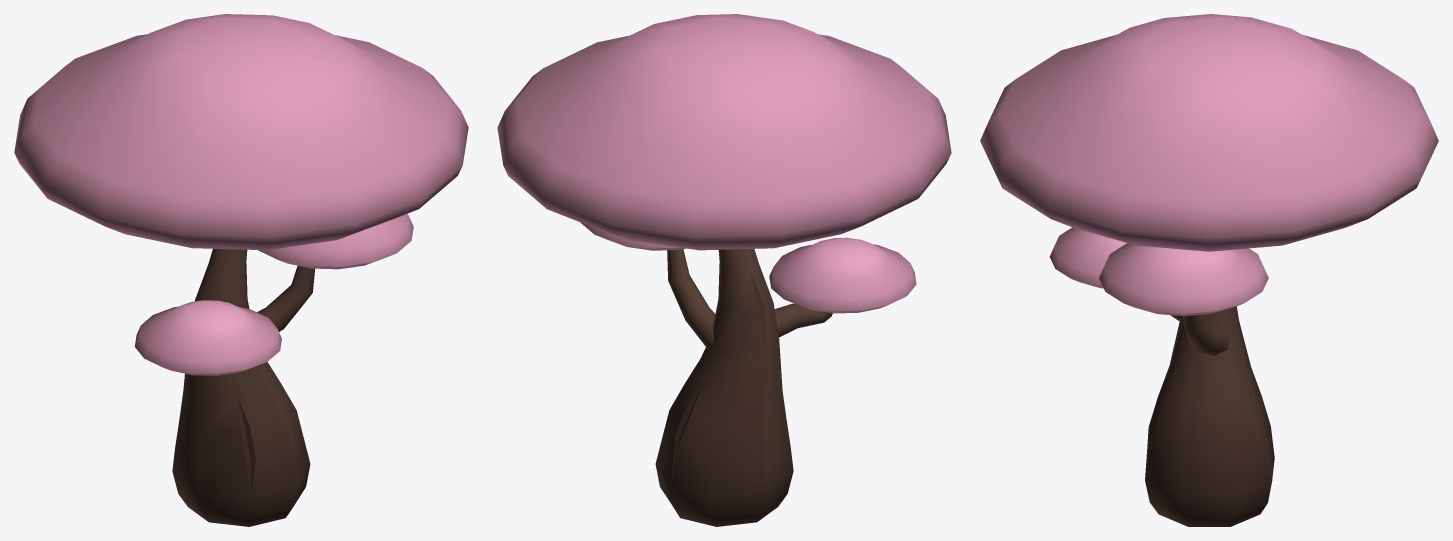
The model's file is tree_cherry_2.glb.
3 renders of one model, left to right at view 1: azimuth 30°, elevation 25°; view 2: azimuth 150°, elevation 25°; view 3: azimuth 270°, elevation 25°, orthographic.
Parts seen in each view (by area): view 1: tree_cherry_2; view 2: tree_cherry_2; view 3: tree_cherry_2.
Boxes of the visible parts, left/top/right/bottom form: tree_cherry_2: left=14, top=14, right=468, bottom=526; tree_cherry_2: left=497, top=14, right=951, bottom=526; tree_cherry_2: left=980, top=14, right=1438, bottom=526.
Bounding box in the file's own units: 5.29 × 6 × 5.29.
